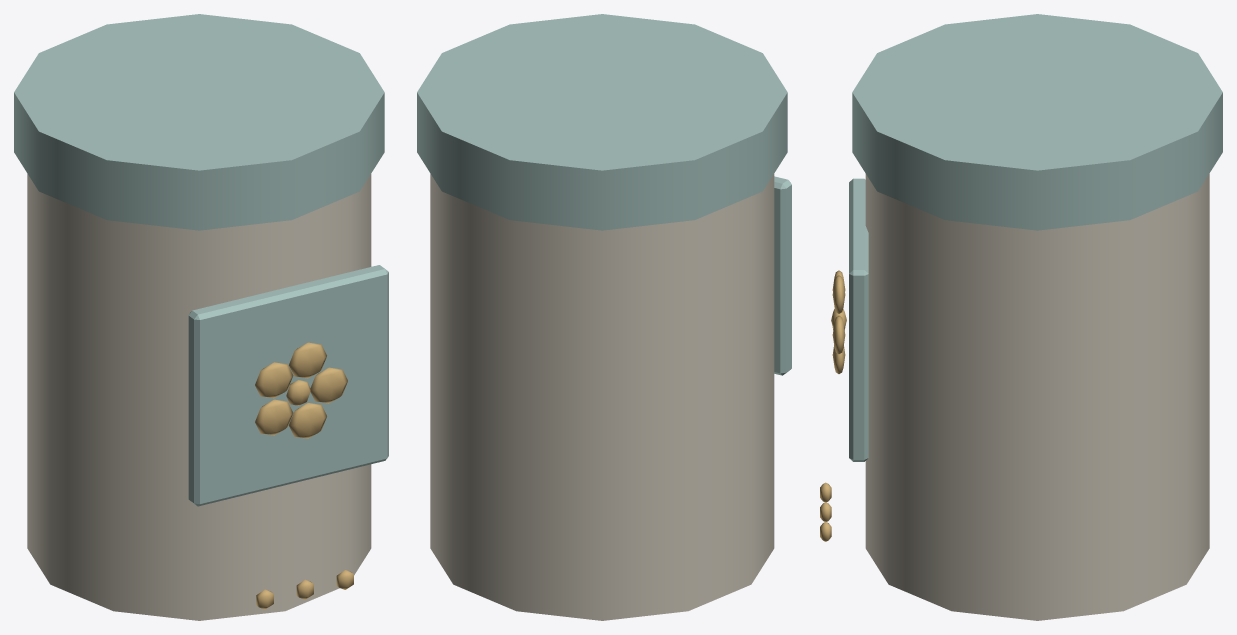
3 renders of one model, left to right at view 1: azimuth 30°, elevation 25°; view 2: azimuth 150°, elevation 25°; view 3: azimuth 270°, elevation 25°, orthographic.
Parts seen in each view (by area): view 1: g_s80; view 2: g_s80; view 3: g_s80.
Boxes of the visible parts, <box> form: g_s80: <box>14,14,388,620</box>; g_s80: <box>417,14,791,620</box>; g_s80: <box>820,14,1222,620</box>.
Bounding box in the file's own units: 0.28 × 0.38 × 0.3043.
